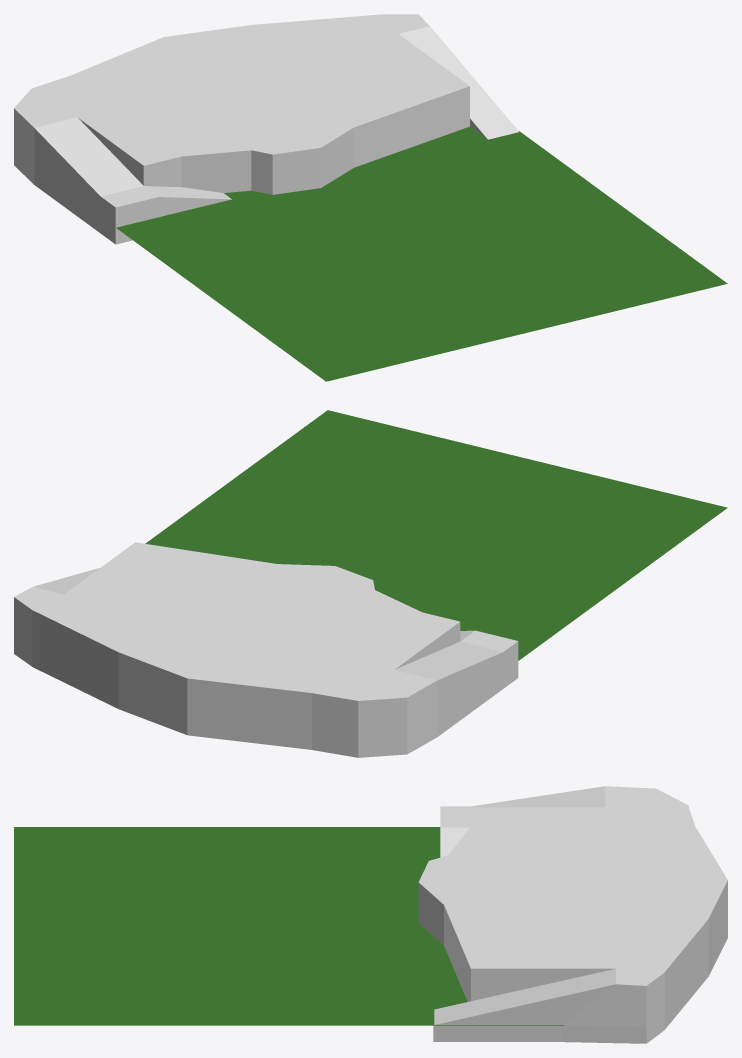
Rendered from HomeLevel_test_01.fbx.
The picture shows the model from 3 angles, top to bottom: view 1: azimuth 30°, elevation 25°; view 2: azimuth 150°, elevation 25°; view 3: azimuth 270°, elevation 25°; orthographic projection.
Visible parts, largest first — view 1: Field, Home_Rock; view 2: Home_Rock, Field; view 3: Field, Home_Rock.
Part boxes in pixels (<box>): Field: <box>116,126,727,381</box>; Home_Rock: <box>14,14,518,244</box>; Home_Rock: <box>14,542,518,757</box>; Field: <box>145,410,727,660</box>; Field: <box>14,827,563,1025</box>; Home_Rock: <box>418,786,727,1043</box>.
Size of the model in its own units: 40271 by 5436 by 60798.
